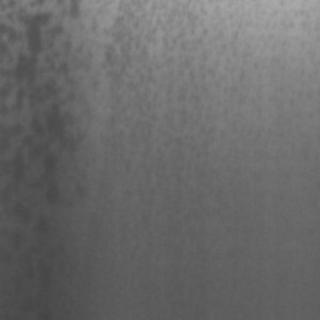pitted_surface: (99, 0, 307, 214), (0, 1, 88, 316)
